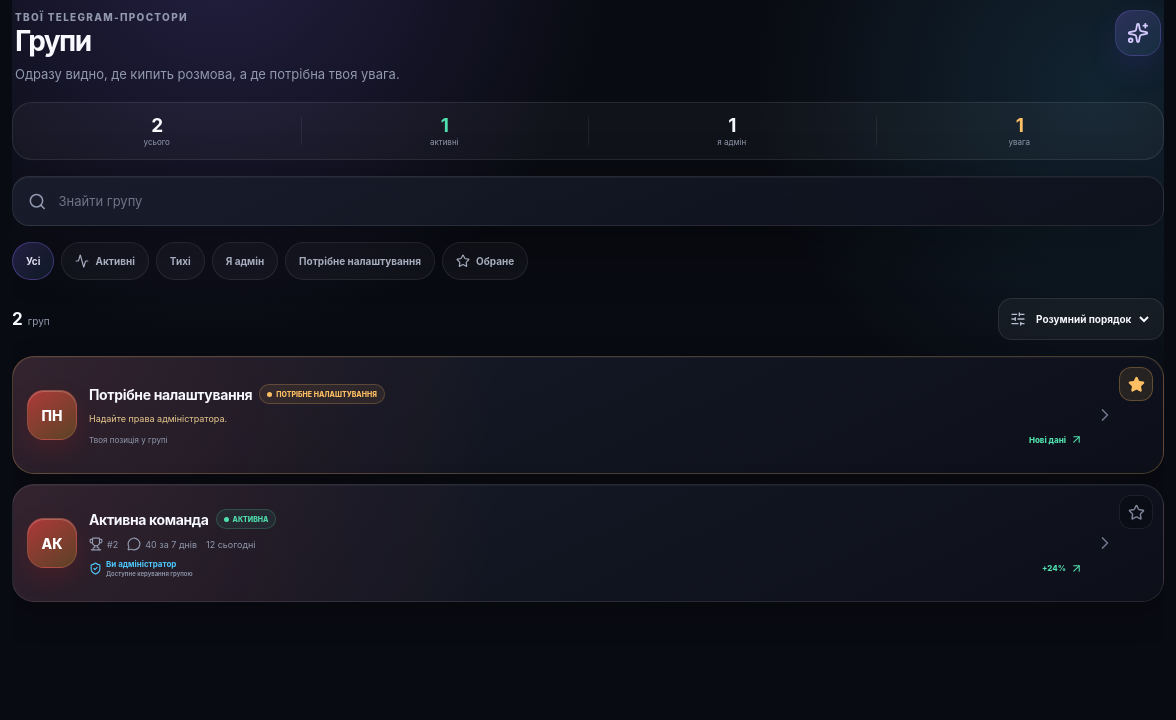
Test: GroupsPage › shows the compact summary and filters groups by status
The width and height of the screenshot is (1176, 720).
Expected: the 1st text "2" is shown, [151,116,162,135]
Click the button "Активні". click: [105, 261]
box: [62,242,149,280]
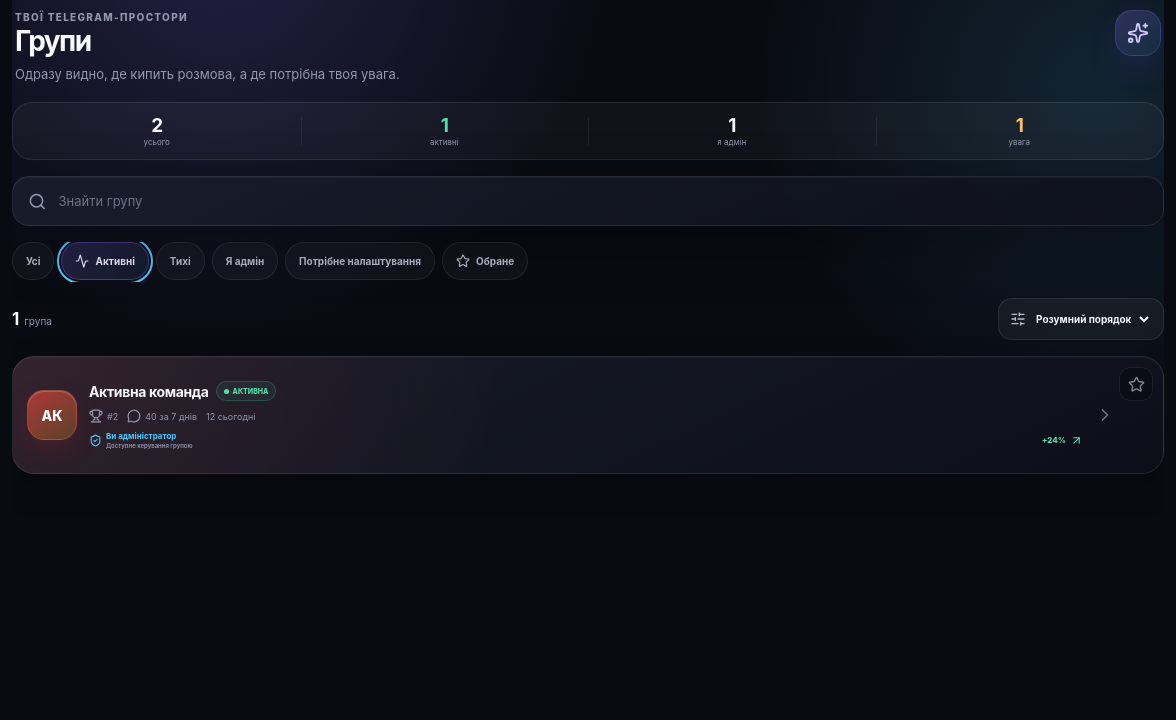
Expected: the text "Активна команда" is shown, [89,383,208,400]
Expected: the button "Надайте права адміністратора." is gone
